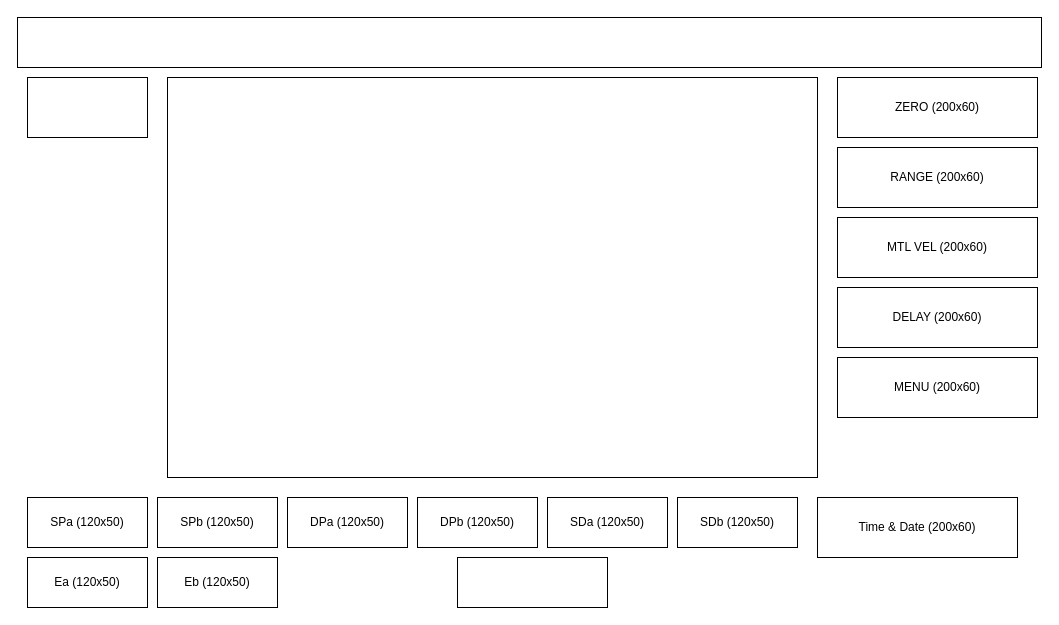
Some shapes in this 1059 by 625 pixel diagram are drawn without their labels. The shapes that lost their labels are listed below. From the top down, each one's centre as x and y in pixels, then its label:
At point (529, 42): "Top Bar (1024x50)".
At point (87, 107): "GAIN Box (120x60)".
At point (492, 277): "Graph Area (650x400)".
At point (532, 582): "Page Navigation (150x50)".
